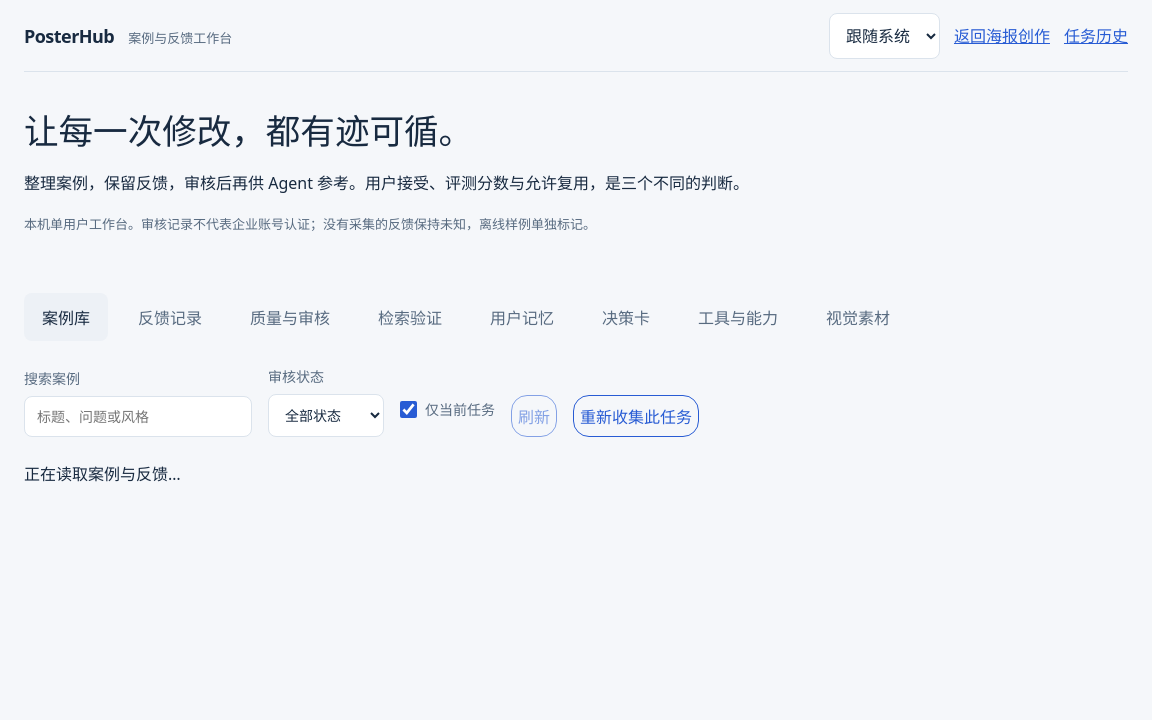
Test case: PosterHub › retrieval experiment excludes the current run and labels its limits
The image size is (1152, 720).
Step 1. Click the button "检索验证" → click(410, 317), box [360,293,460,341]
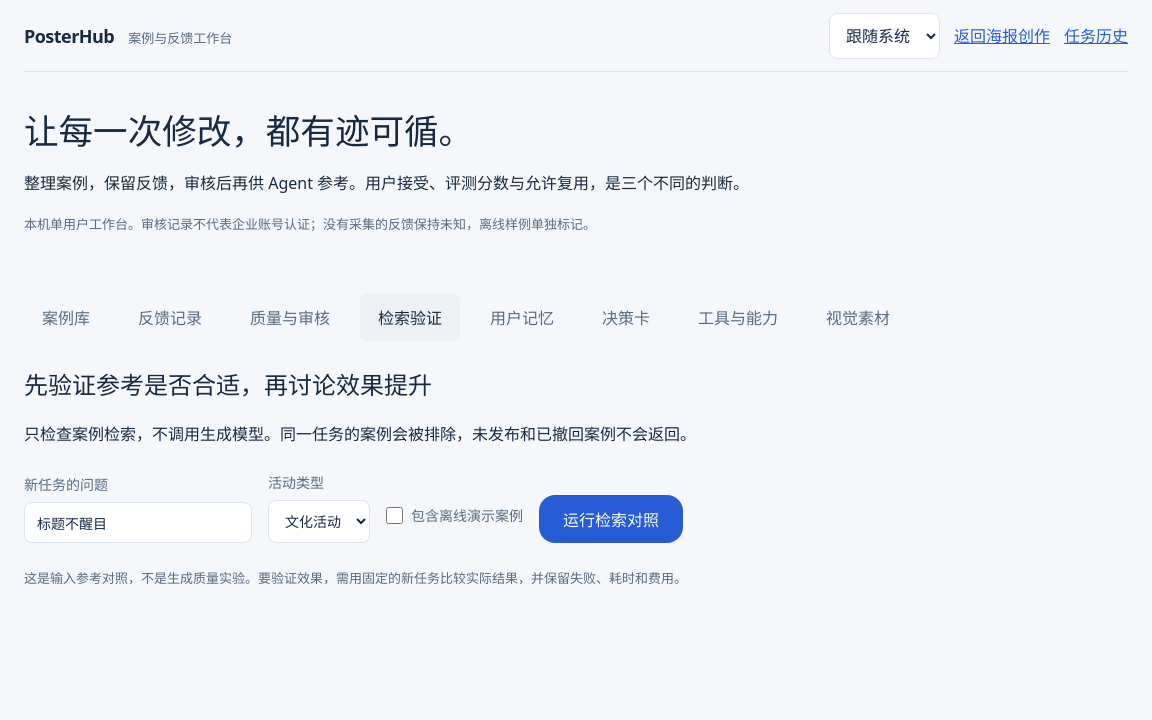
Step 2. Click the button "运行检索对照" → click(611, 519), box [539,495,683,543]
(page scrolled)
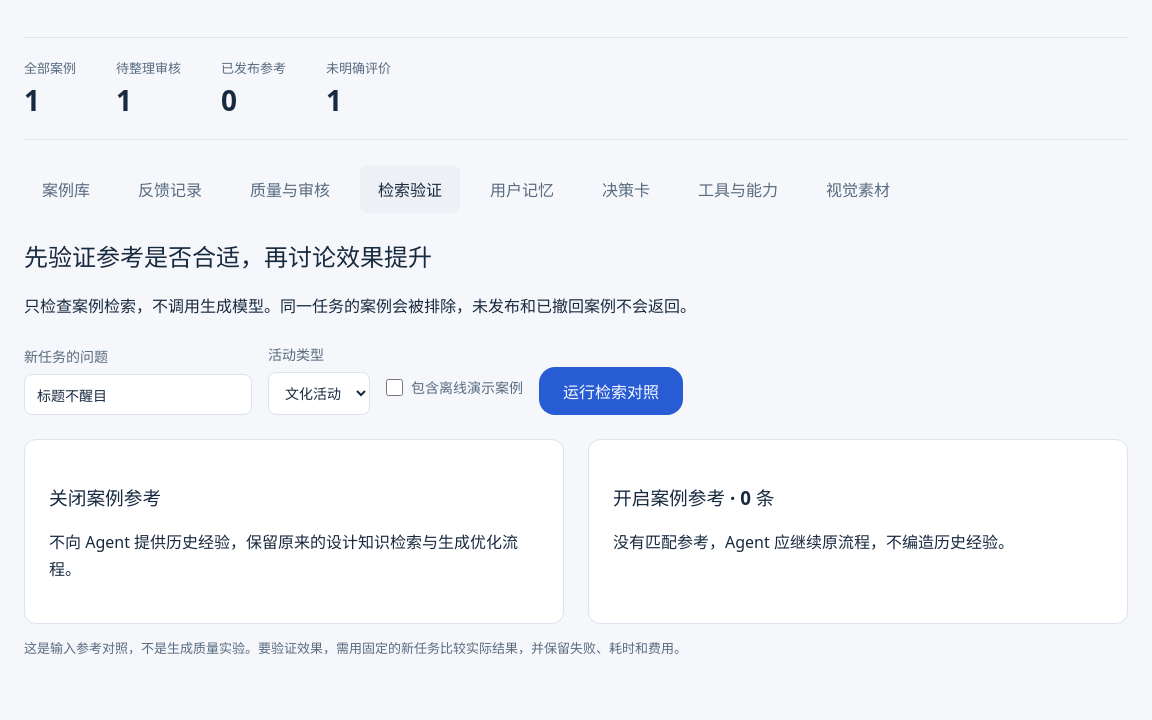
expect the text "这是输入参考对照，不是生成质量实验。要验证效果，需用固定的新任务比较实际结果，并保留失败、耗时和费用。" is shown: met, box [24,639,687,657]
expect the text "没有匹配参考，Agent 应继续原流程，不编造历史经验。" is shown: met, box [613,531,1014,553]
